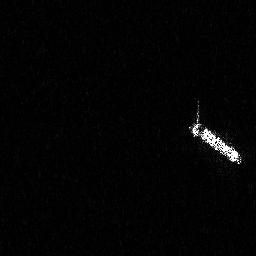ship: (185, 99, 243, 167)
